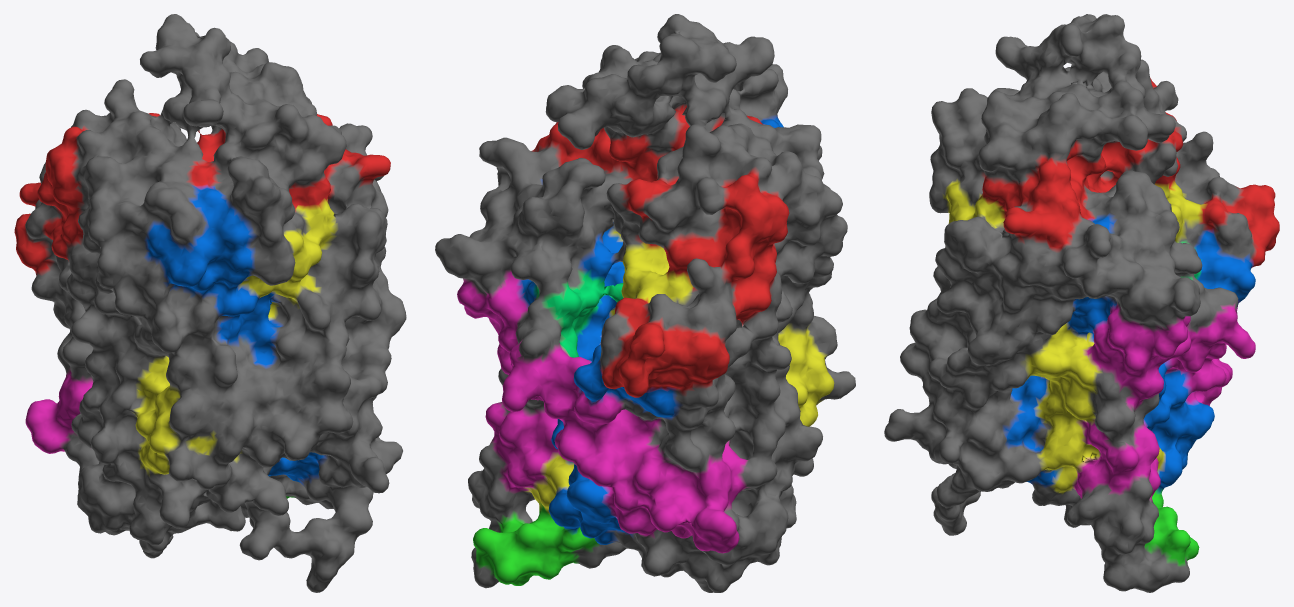
Rendered from serotonin-transporter.glb.
The picture shows the model from 3 angles, left to right: view 1: azimuth 30°, elevation 25°; view 2: azimuth 150°, elevation 25°; view 3: azimuth 270°, elevation 25°; orthographic projection. The views are drawn at different scales.
Visible parts, largest first — view 1: Object_56; view 2: Object_56; view 3: Object_56.
Part boxes in pixels (x1,y1,x2,y2): Object_56: (14,14,406,592); Object_56: (435,14,855,592); Object_56: (884,14,1279,592).
Bounding box in the file's own units: 51.64 × 85.16 × 60.37.
